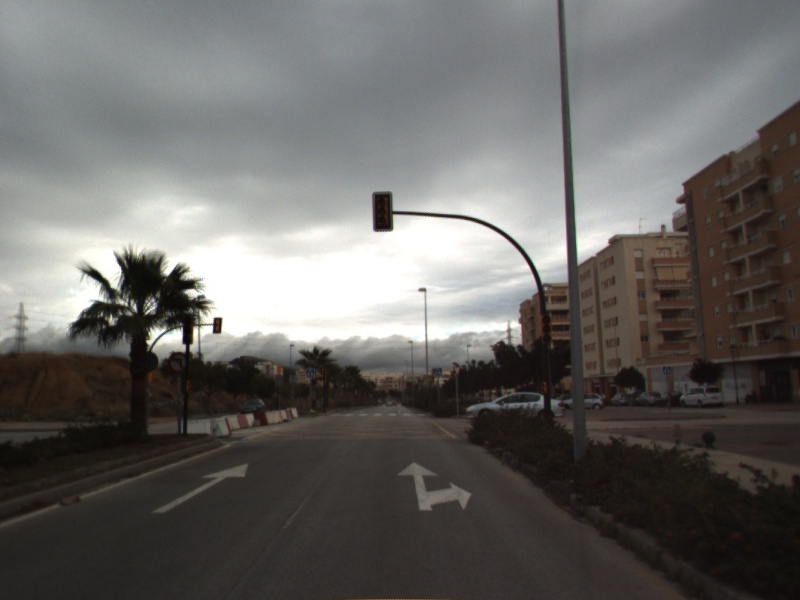STRAIGHT: (150, 461, 250, 515)
STRAIGHT_RIGHT: (395, 460, 474, 513)
